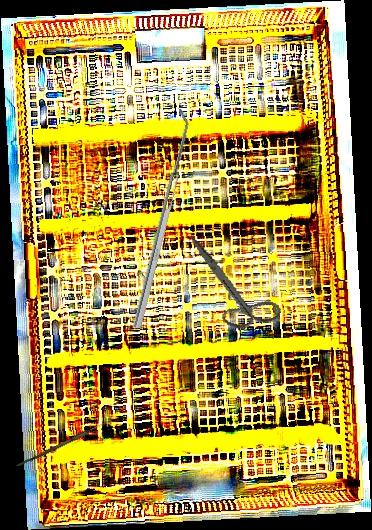Iris Scissors: (168, 234, 295, 341)
Spatula Surgical: (124, 108, 195, 329)
Surgical Spoon: (15, 415, 116, 470)
